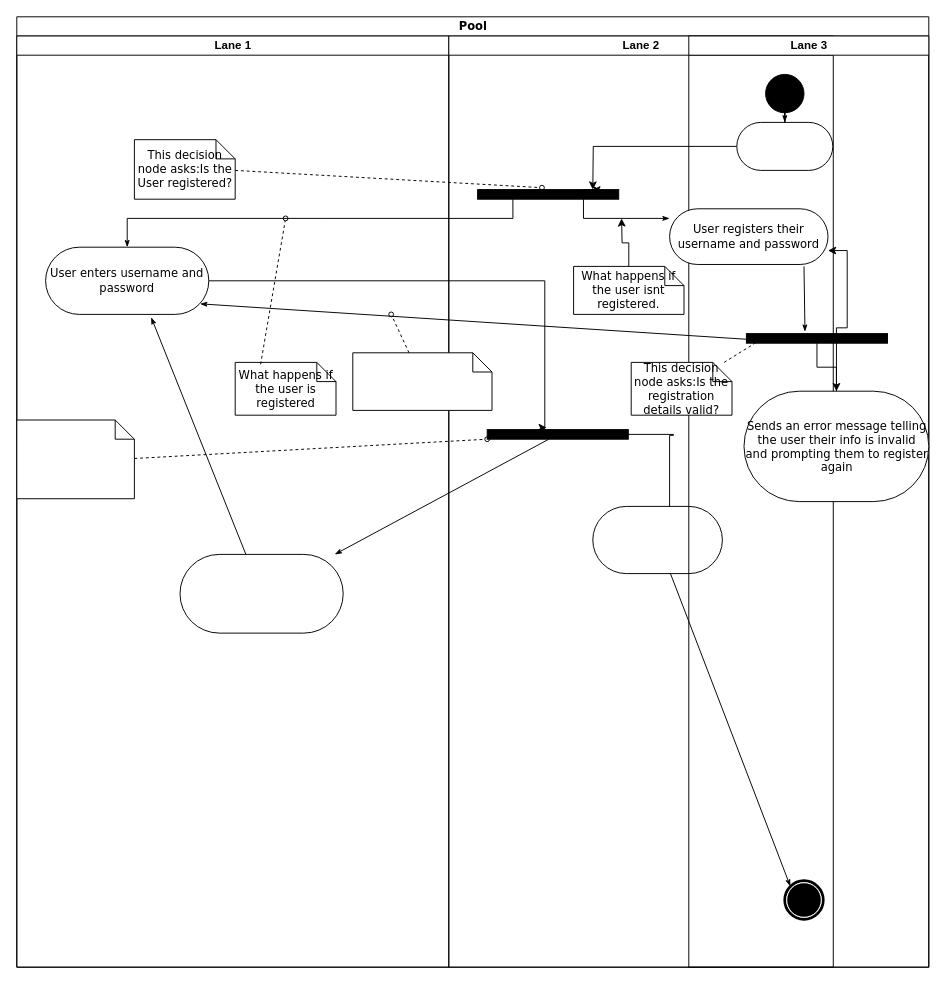
Some shapes in this 946 by 984 pixel diagram are drawn without their labels. Each missing label, with the box of its shape:
Sends an error message prompting the user to enter their login details again.: (179, 553, 343, 633)
This decision node asks:Is the credentials valid?: (16, 419, 134, 499)
User is redirected to dashboard: (592, 505, 722, 574)
User navigates to login page: (736, 121, 833, 170)
What happens if the registration details are vaid.: (352, 352, 492, 410)
